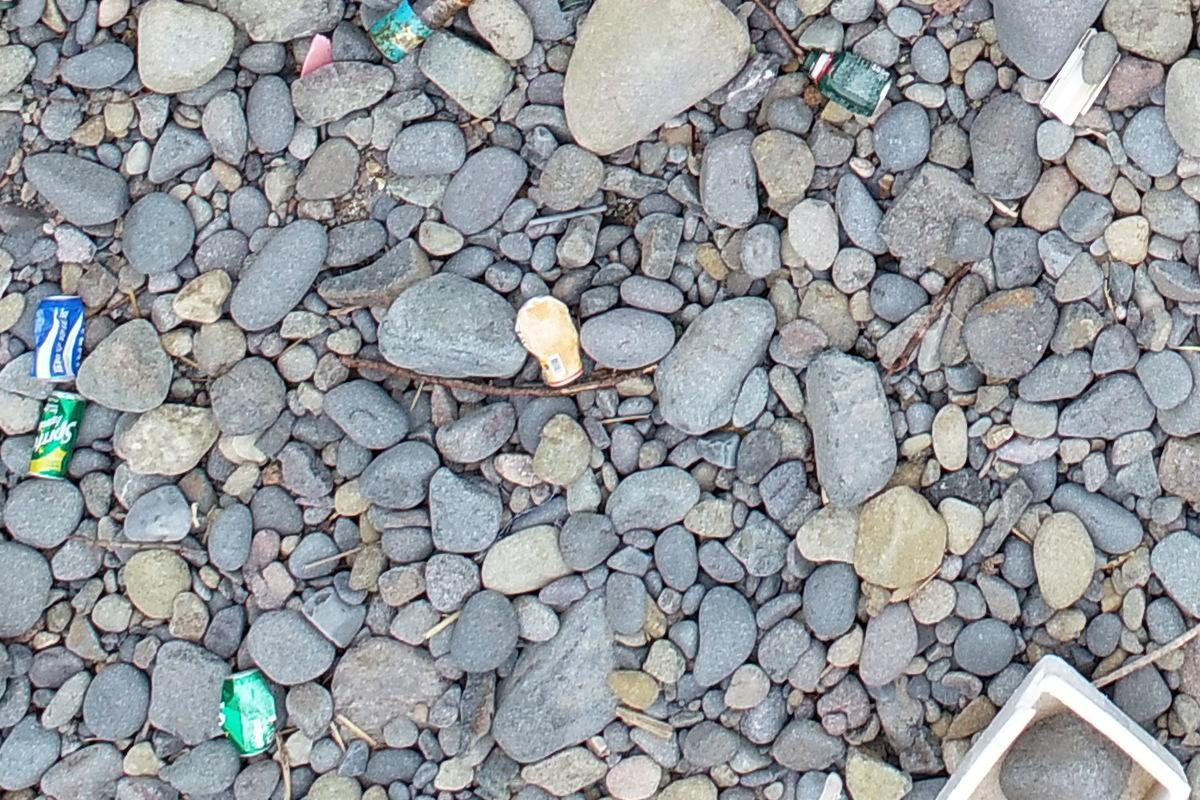(11)Metal: (366, 0, 505, 64), (800, 47, 896, 119), (514, 294, 583, 390), (26, 391, 87, 480), (218, 667, 276, 757), (29, 295, 85, 383), (520, 0, 586, 12)
(11)Styrofoam_Box: (927, 654, 1193, 800)
